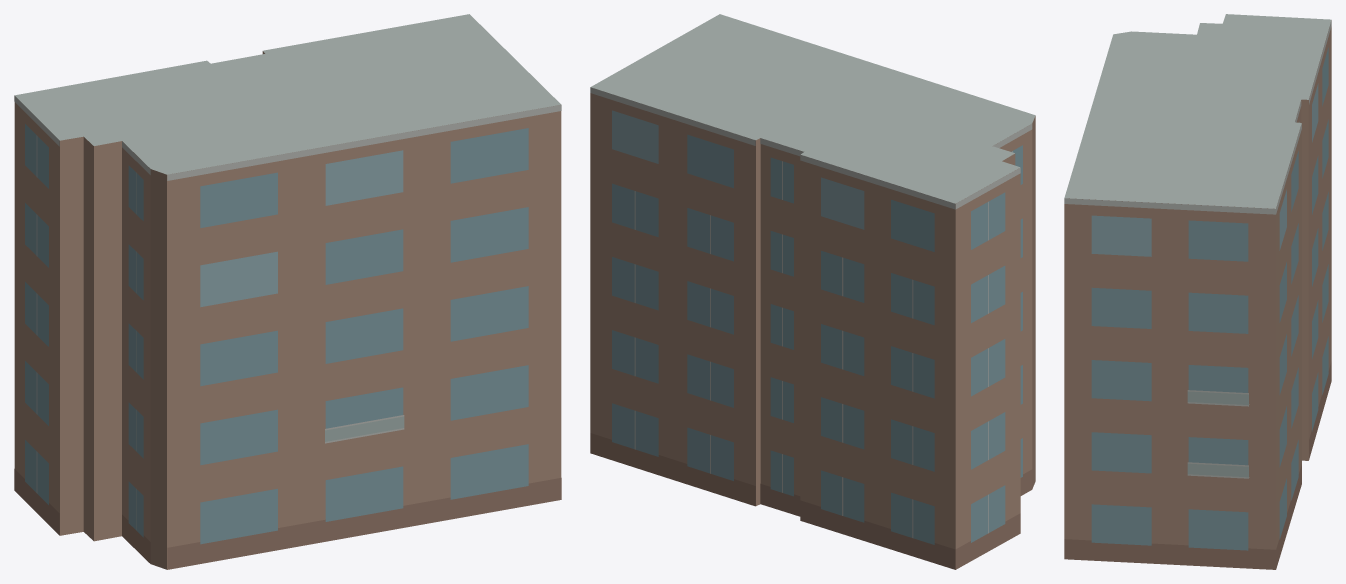
The model's file is survey-upis-32542152.glb.
3 renders of one model, left to right at view 1: azimuth 30°, elevation 25°; view 2: azimuth 150°, elevation 25°; view 3: azimuth 270°, elevation 25°, orthographic. The views are drawn at different scales.
Visible parts, largest first — view 1: survey-upis-32542152.tmp; view 2: survey-upis-32542152.tmp; view 3: survey-upis-32542152.tmp.
Boxes of the visible parts, left/top/right/bottom form: survey-upis-32542152.tmp: left=14, top=14, right=561, bottom=569; survey-upis-32542152.tmp: left=590, top=14, right=1035, bottom=569; survey-upis-32542152.tmp: left=1064, top=14, right=1331, bottom=569.
Size of the model in its own units: 17.66 by 15.25 by 10.24.
